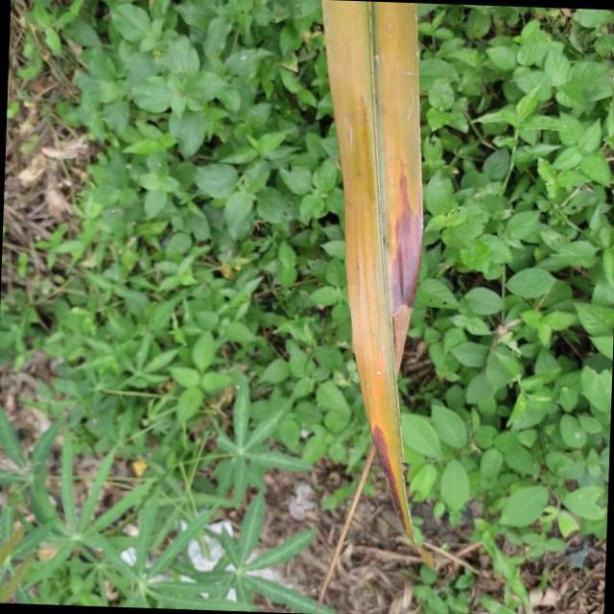Megnesium: (318, 0, 440, 567)
